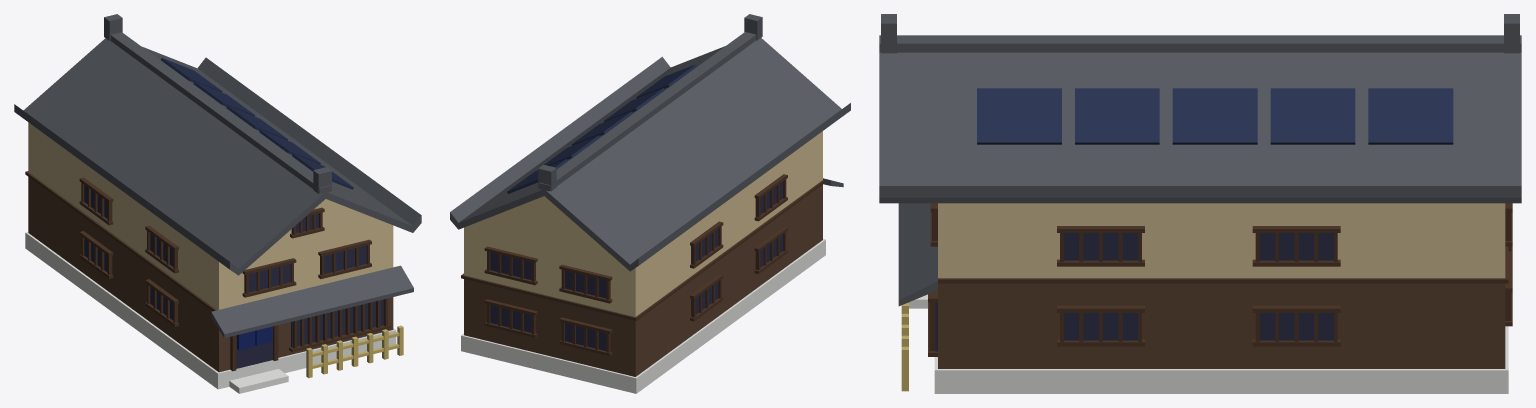
Rendered from house-1x2-2f-machiya-a-solar.glb.
The picture shows the model from 3 angles, left to right: view 1: azimuth 30°, elevation 25°; view 2: azimuth 150°, elevation 25°; view 3: azimuth 270°, elevation 25°; orthographic projection. The views are drawn at different scales.
Parts seen in each view (by area): view 1: house-1x2-2f-machiya-a-solar; view 2: house-1x2-2f-machiya-a-solar; view 3: house-1x2-2f-machiya-a-solar.
Boxes of the visible parts, x1,y1,x2,y2 form: house-1x2-2f-machiya-a-solar: (14, 14, 421, 393); house-1x2-2f-machiya-a-solar: (450, 14, 850, 393); house-1x2-2f-machiya-a-solar: (879, 14, 1521, 393).
Size of the model in its own units: 1.01 by 1.05 by 1.97.
Materials: 1 (1 with a texture image).
